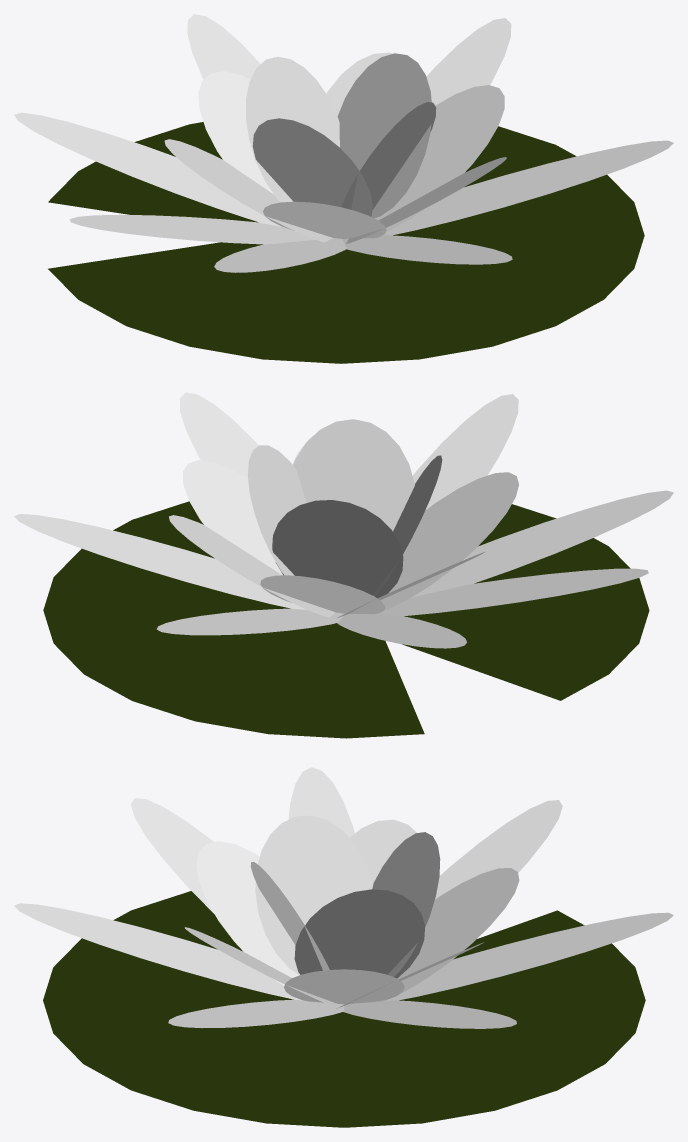
File: lily-prototype.fbx
3 views of the same model, one above another, from view 1: azimuth 30°, elevation 25°; view 2: azimuth 150°, elevation 25°; view 3: azimuth 270°, elevation 25° (orthographic).
Parts seen in each view (by area): view 1: pDisc19, pDisc8, pDisc7, pDisc10, pDisc4, pDisc12, pDisc11, pDisc3, pDisc17, pDisc6, pDisc9, pDisc1 (+6 smaller); view 2: pDisc19, pDisc11, pDisc9, pDisc15, pDisc2, pDisc6, pDisc3, pDisc1, pDisc12, pDisc8, pDisc7, pDisc5 (+4 smaller); view 3: pDisc19, pDisc10, pDisc8, pDisc1, pDisc5, pDisc17, pDisc15, pDisc4, pDisc11, pDisc2, pDisc6, pDisc7 (+5 smaller).
Boxes of the visible parts, bbox=[...] form: pDisc19: bbox=[48, 122, 644, 363]; pDisc8: bbox=[337, 53, 431, 218]; pDisc7: bbox=[382, 140, 673, 235]; pDisc10: bbox=[252, 118, 372, 216]; pDisc4: bbox=[14, 112, 282, 226]; pDisc12: bbox=[374, 85, 504, 231]; pDisc11: bbox=[246, 56, 339, 202]; pDisc3: bbox=[69, 214, 333, 244]; pDisc17: bbox=[198, 71, 273, 194]; pDisc6: bbox=[426, 18, 511, 105]; pDisc9: bbox=[341, 102, 436, 209]; pDisc1: bbox=[342, 235, 512, 264]; pDisc19: bbox=[43, 501, 649, 738]; pDisc11: bbox=[272, 500, 403, 598]; pDisc9: bbox=[293, 419, 414, 552]; pDisc15: bbox=[380, 472, 518, 609]; pDisc2: bbox=[412, 490, 673, 597]; pDisc6: bbox=[14, 514, 306, 609]; pDisc3: bbox=[375, 568, 648, 616]; pDisc1: bbox=[412, 394, 518, 510]; pDisc12: bbox=[183, 460, 282, 575]; pDisc8: bbox=[247, 445, 306, 575]; pDisc7: bbox=[180, 392, 258, 477]; pDisc5: bbox=[156, 608, 344, 635]; pDisc19: bbox=[43, 891, 645, 1127]; pDisc10: bbox=[255, 815, 373, 975]; pDisc8: bbox=[294, 889, 424, 978]; pDisc1: bbox=[14, 903, 302, 1000]; pDisc5: bbox=[386, 912, 673, 1000]; pDisc17: bbox=[372, 868, 519, 1002]; pDisc15: bbox=[196, 841, 299, 985]; pDisc4: bbox=[435, 800, 562, 899]; pDisc11: bbox=[372, 832, 440, 976]; pDisc2: bbox=[131, 798, 214, 913]; pDisc6: bbox=[343, 1000, 516, 1028]; pDisc7: bbox=[168, 999, 344, 1028].
Bounding box in the file's own units: 24.92 × 6.79 × 26.11.
